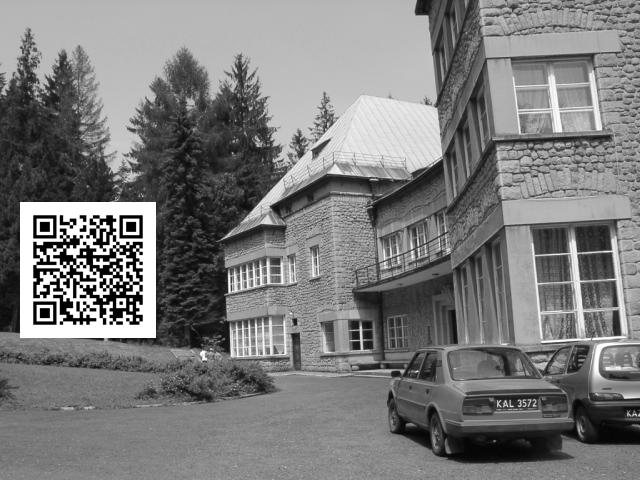qr_code: (21, 201, 155, 337)
